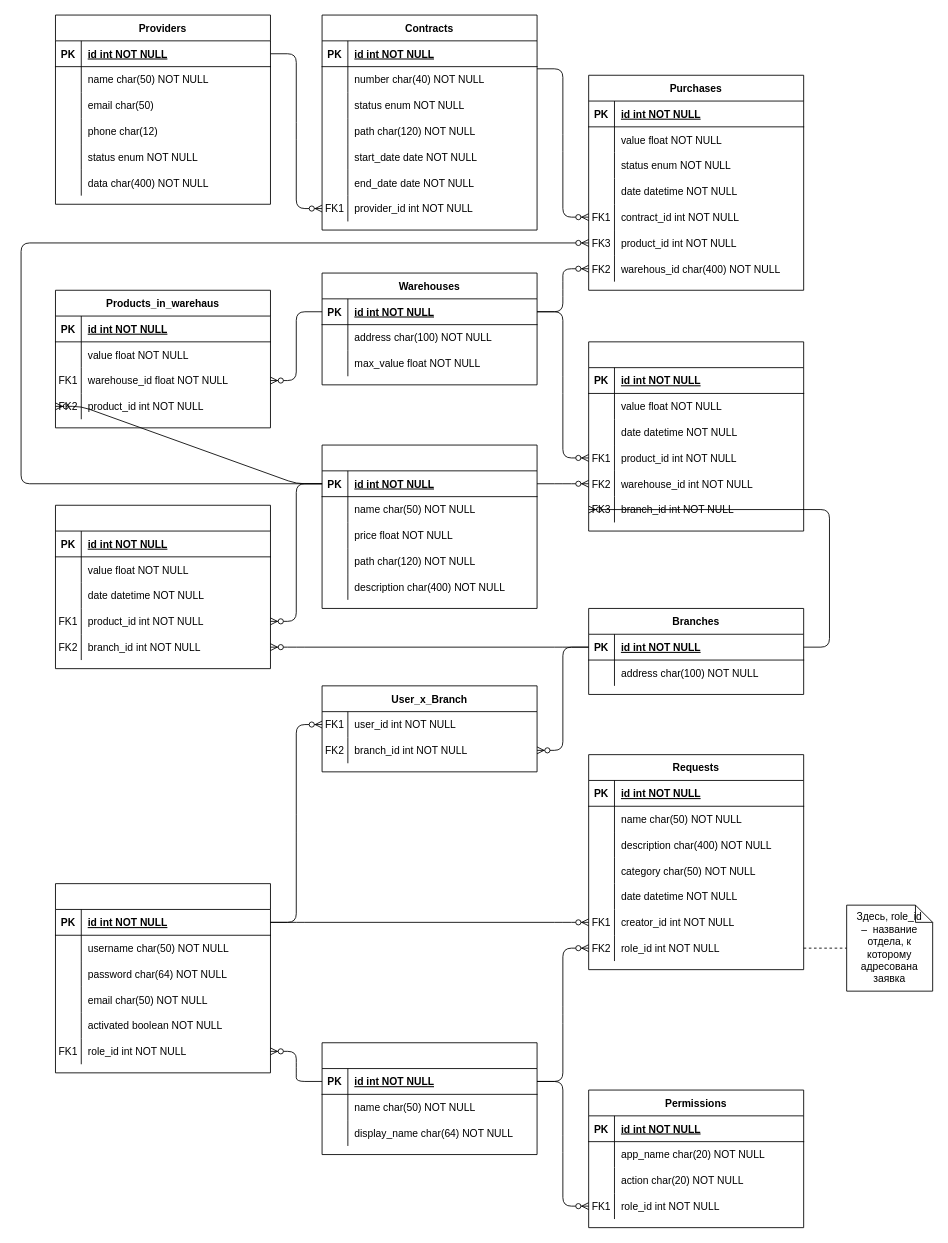
Image size: 948x1243. Some labels were removed from this diagram. Here are the shapes that lost their labels. From the top down, the box of each, then its label:
(588, 341, 804, 531): Supplies
(321, 444, 537, 608): Products
(55, 504, 270, 669): Sales
(55, 883, 270, 1073): Users
(321, 1042, 537, 1155): Roles
